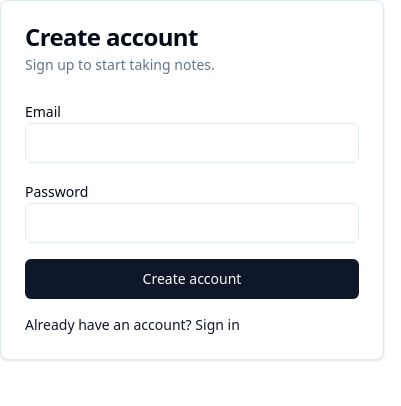
Test: auth-ui › Registration screen › surfaces a duplicate-email conflict on the email field
In the field labelled "Email": [192, 143] box top-left (25, 123), bottom-right (359, 163), type "taken@b.com"
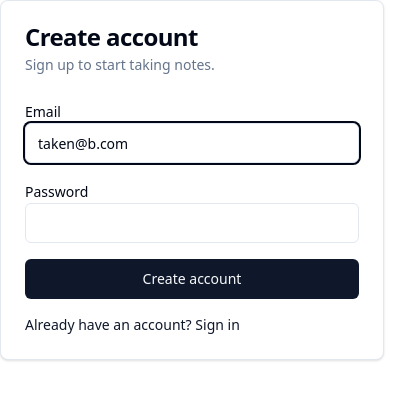
In the password field labelled "Password": [192, 223] box top-left (25, 203), bottom-right (359, 243), type "Passw0rd"
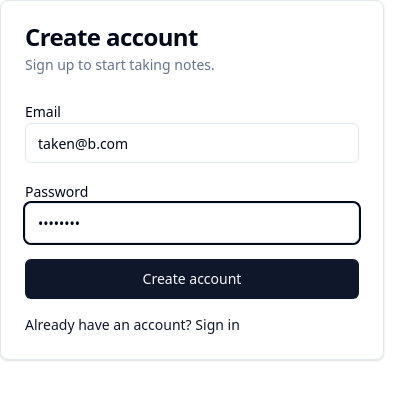
Click the button "Create account": [192, 279] box top-left (25, 259), bottom-right (359, 299)
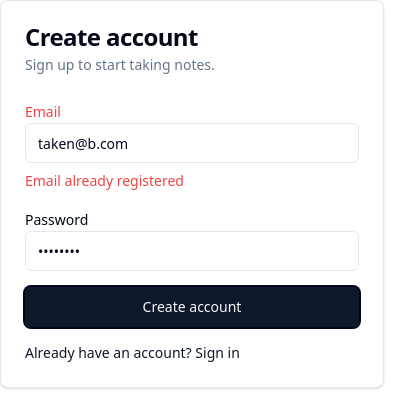
Now the text "Email already registered" is shown, box top-left (25, 171), bottom-right (184, 190)
